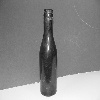beer: (39, 7, 59, 100)
